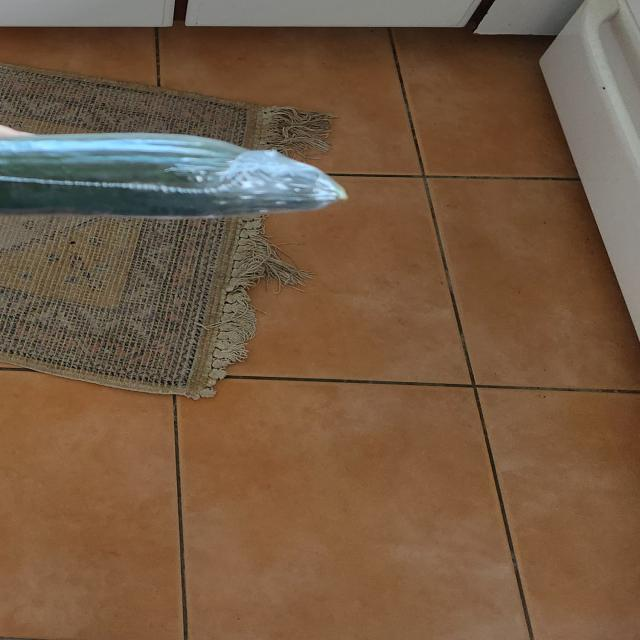cucumber: (0, 131, 353, 220)
